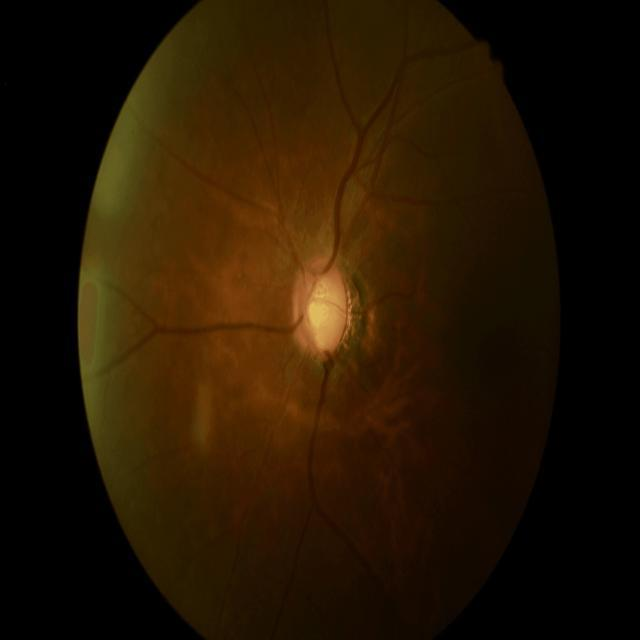cup: (307, 272, 340, 350)
disk: (290, 254, 348, 358)
